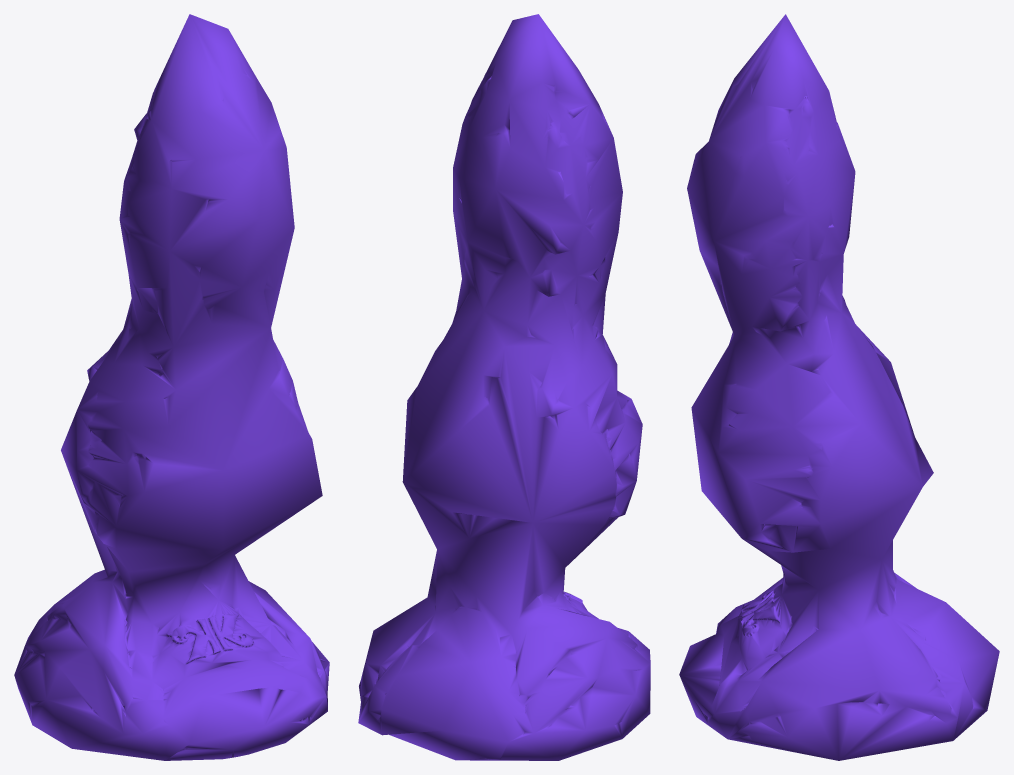
Rendered from xlarge-flat-ar.glb.
3 renders of one model, left to right at view 1: azimuth 30°, elevation 25°; view 2: azimuth 150°, elevation 25°; view 3: azimuth 270°, elevation 25°, orthographic. The views are drawn at different scales.
Size of the model in its own units: 0.1241 by 0.303 by 0.1294.
